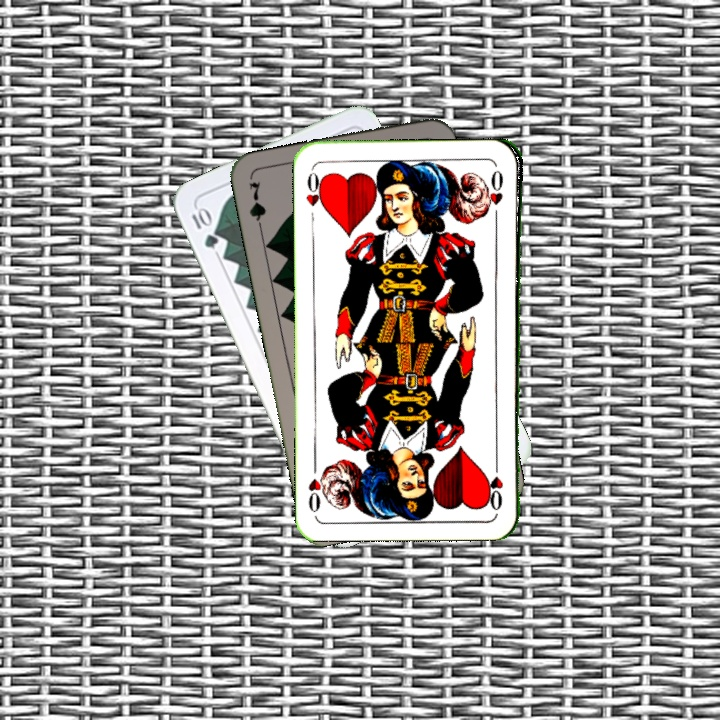G10: (187, 203, 221, 251)
G7: (244, 177, 269, 236)
HO: (302, 165, 327, 224), (488, 454, 506, 513)
